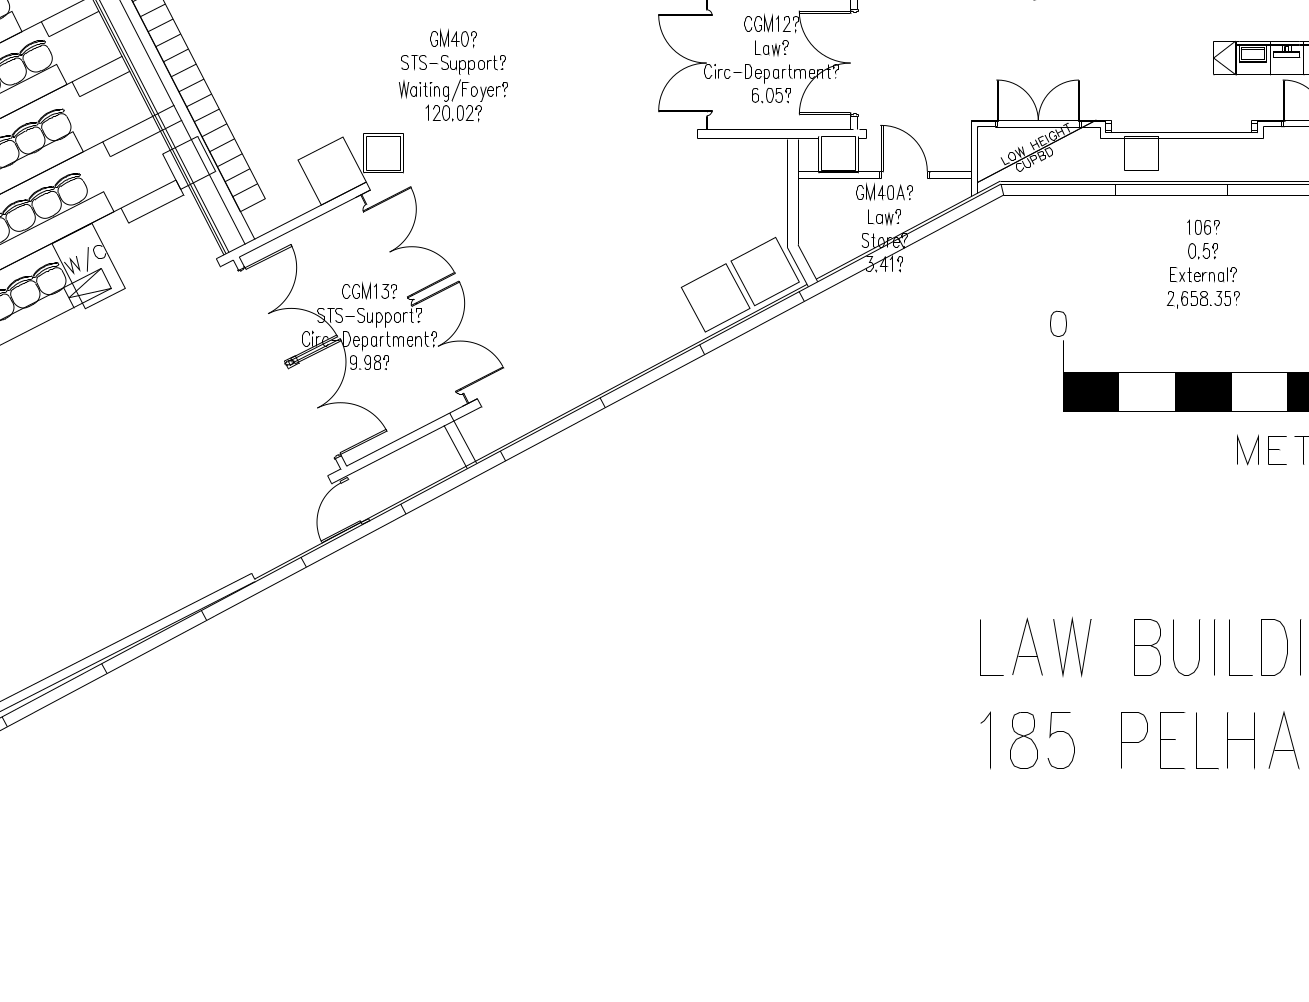door: (353, 174, 458, 298), (763, 1, 868, 124), (615, 1, 719, 123), (987, 68, 1089, 131), (403, 272, 474, 350), (436, 317, 506, 396), (282, 329, 353, 408), (321, 381, 391, 460), (233, 235, 303, 314), (267, 283, 337, 362), (871, 115, 944, 180)
